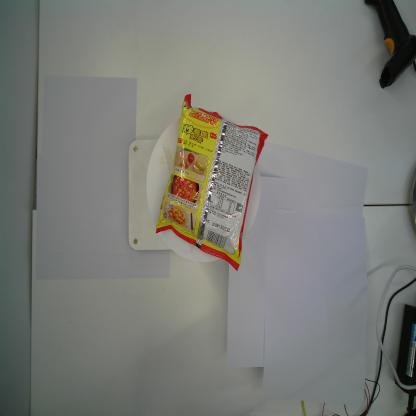Instant Noodles: (155, 93, 270, 272)
